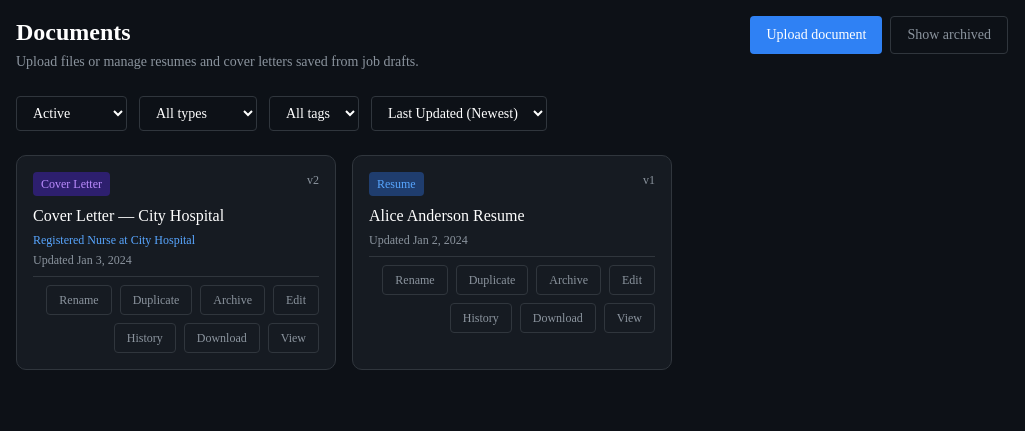
it: DocumentsPage - S3-007 Document Duplicate and Rename › shows an error message and does not add a card when Duplicate fails
The image size is (1025, 431).
Expected: the heading "Alice Anderson Resume" is shown, [369,207,524,224]
Click the button with test id "document-duplicate-button" below "Jan 2, 2024": click(492, 280) [456,265,528,295]
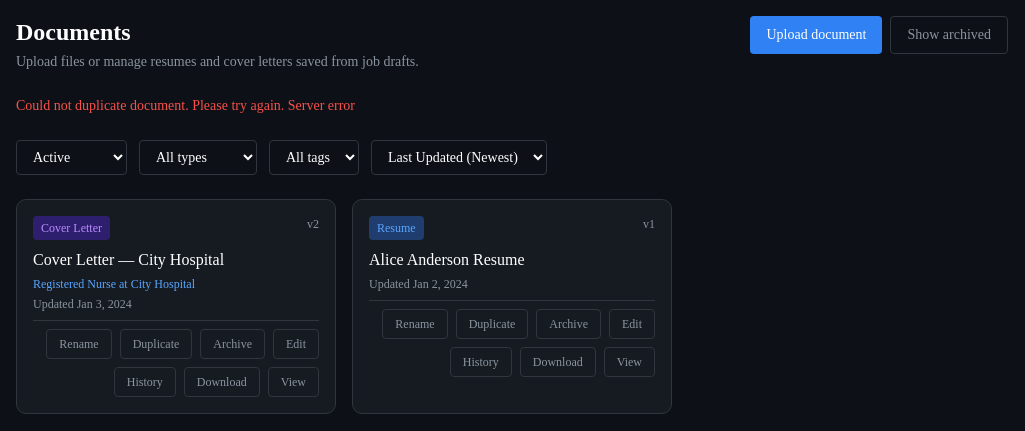
Result: the message with test id "action-error" shows "Could not duplicate" at [16,98,355,113]
